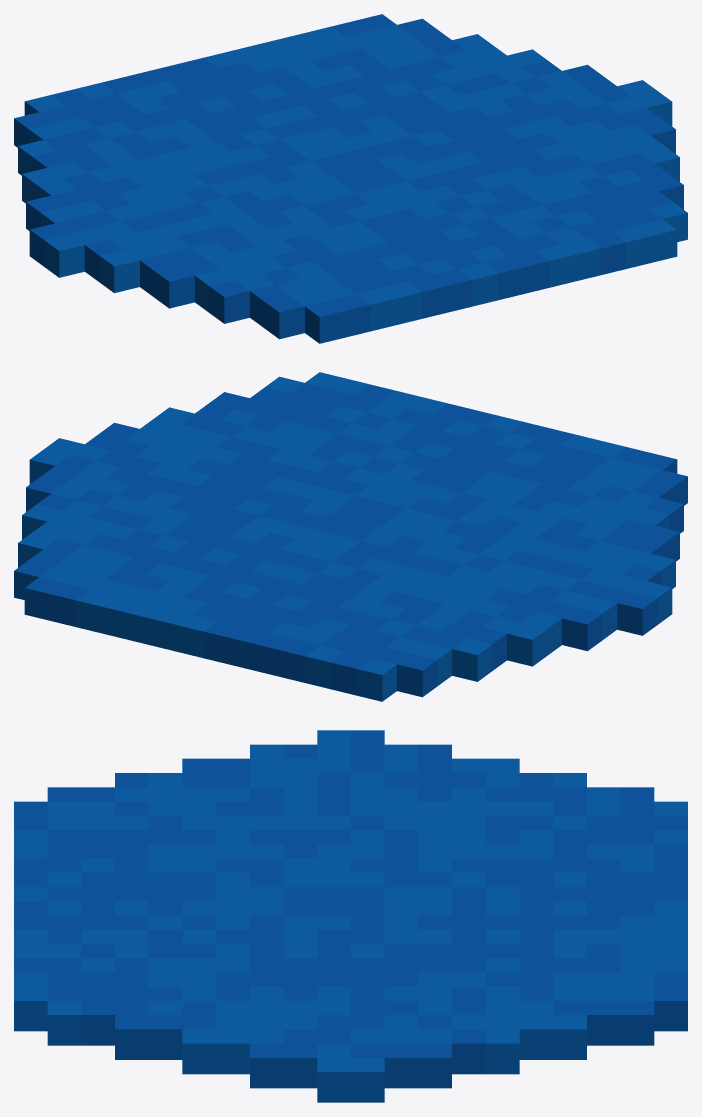
Rendered from overworld-39-ocean_1px.obj.
3 views of the same model, one above another, from view 1: azimuth 30°, elevation 25°; view 2: azimuth 150°, elevation 25°; view 3: azimuth 270°, elevation 25° (orthographic). The views are drawn at different scales.
Visible parts, largest first — view 1: ocean_1px; view 2: ocean_1px; view 3: ocean_1px.
Part boxes in pixels (<box>): ocean_1px: <box>14,14,687,343</box>; ocean_1px: <box>14,372,687,701</box>; ocean_1px: <box>14,730,687,1102</box>.
Size of the model in its own units: 2.4 by 0.1 by 2.
Materials: 1 (1 with a texture image).
